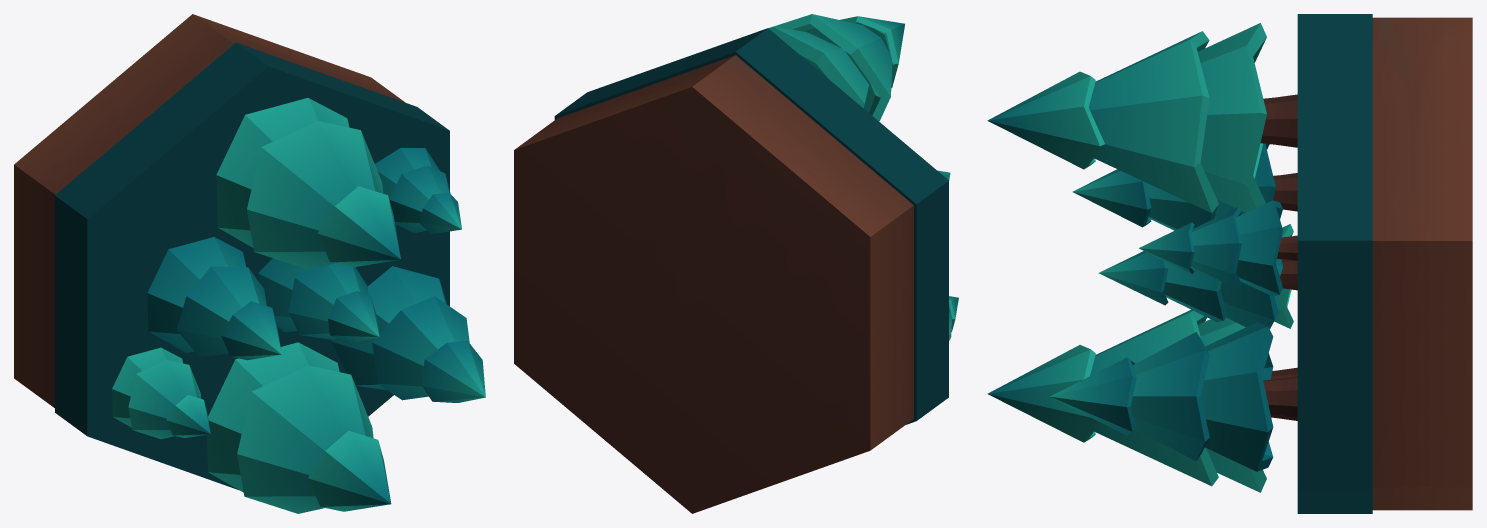
File: NADELWALD_B.fbx
The picture shows the model from 3 angles, left to right: view 1: azimuth 30°, elevation 25°; view 2: azimuth 150°, elevation 25°; view 3: azimuth 270°, elevation 25°; orthographic projection. The views are drawn at different scales.
Visible parts, largest first — view 1: NADELWALD_B; view 2: NADELWALD_B; view 3: NADELWALD_B.
Boxes of the visible parts, x1=… form: NADELWALD_B: x1=14, y1=14, x2=485, y2=513; NADELWALD_B: x1=514, y1=14, x2=958, y2=513; NADELWALD_B: x1=987, y1=14, x2=1472, y2=513.
Size of the model in its own units: 172 by 197 by 174.
